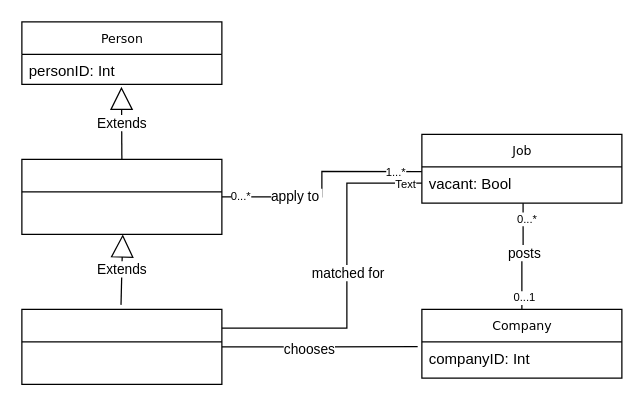
This 644x406 diagram has some shape labels left out. Here are the shapes that lost their labels. From the top down, the box of each, then its label:
(21, 158, 222, 234): Applicant
(21, 308, 222, 384): Candidate
